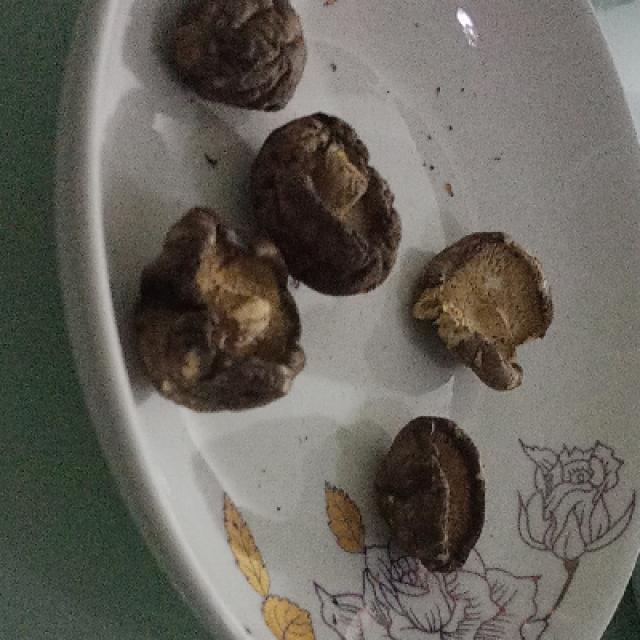Lentinus edodes: (137, 213, 304, 413), (248, 115, 402, 296), (421, 224, 555, 394), (386, 409, 488, 571), (172, 1, 312, 116)
